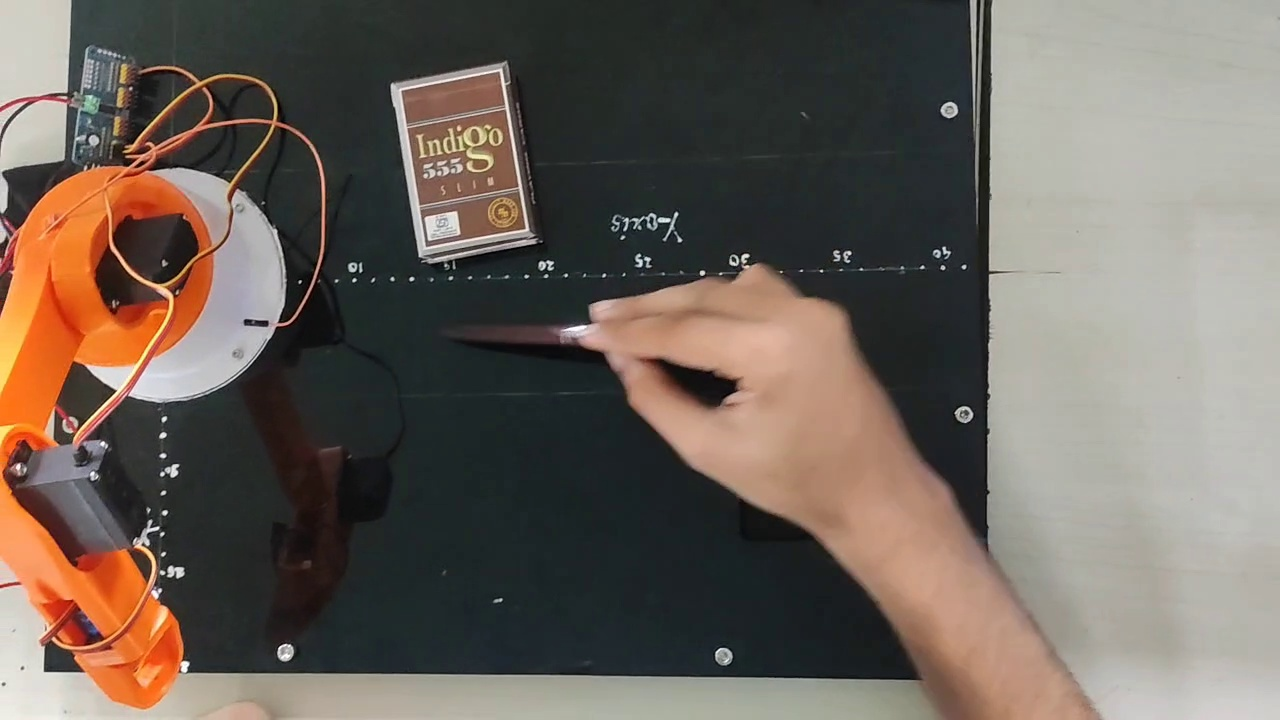BEX: (398, 69, 527, 246)
